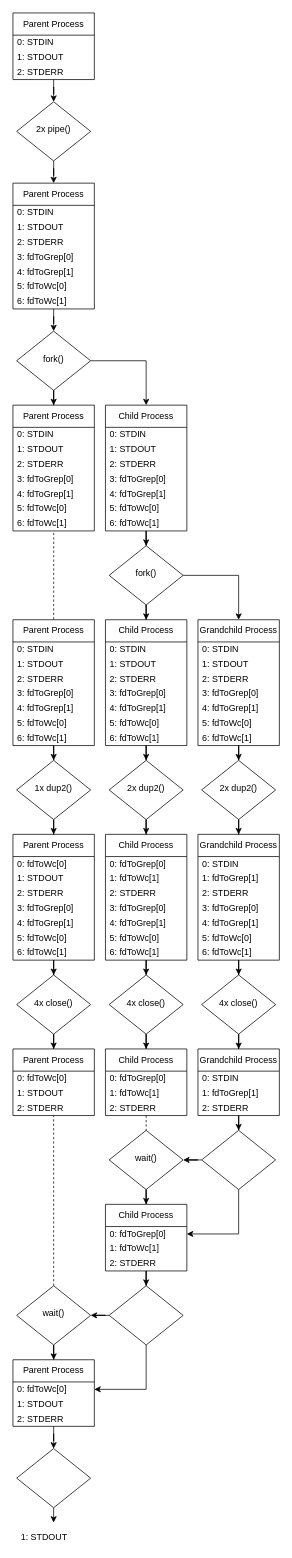
Some shapes in this 292 by 1558 pixel diagram are drawn without their labels. Here are the shapes that lost their labels. From the top down, the centre of each, then its label:
the point at 238,1160: exec(ps)
the point at 145,1315: exec(grep)
the point at 53,1478: exec(wc)
